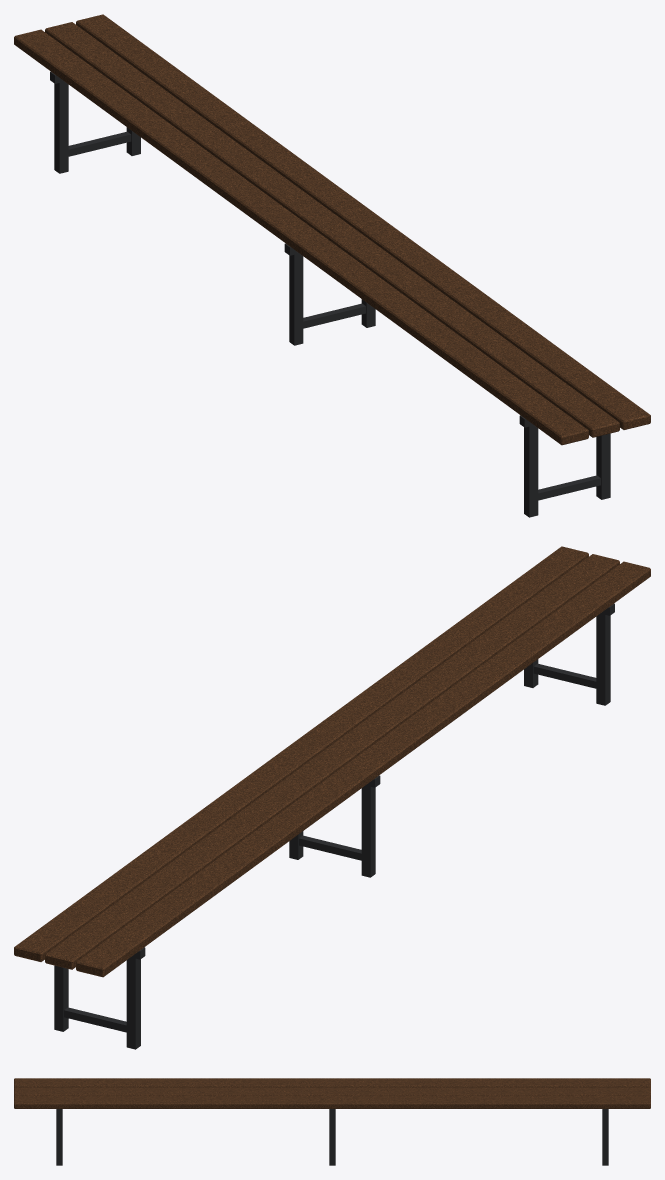
Rendered from BenchLong.gltf.
3 renders of one model, top to bottom at view 1: azimuth 30°, elevation 25°; view 2: azimuth 150°, elevation 25°; view 3: azimuth 270°, elevation 25°, orthographic. The views are drawn at different scales.
Visible parts, largest first — view 1: BenchLong; view 2: BenchLong; view 3: BenchLong.
Boxes of the visible parts, x1,y1,x2,y2 form: BenchLong: (14,14,650,517); BenchLong: (14,546,650,1049); BenchLong: (14,1078,650,1165).
Size of the model in its own units: 0.4 by 0.46 by 4.2.
2 materials, 1 textured.
